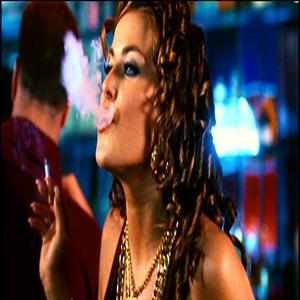cigarette: (43, 156, 53, 206)
